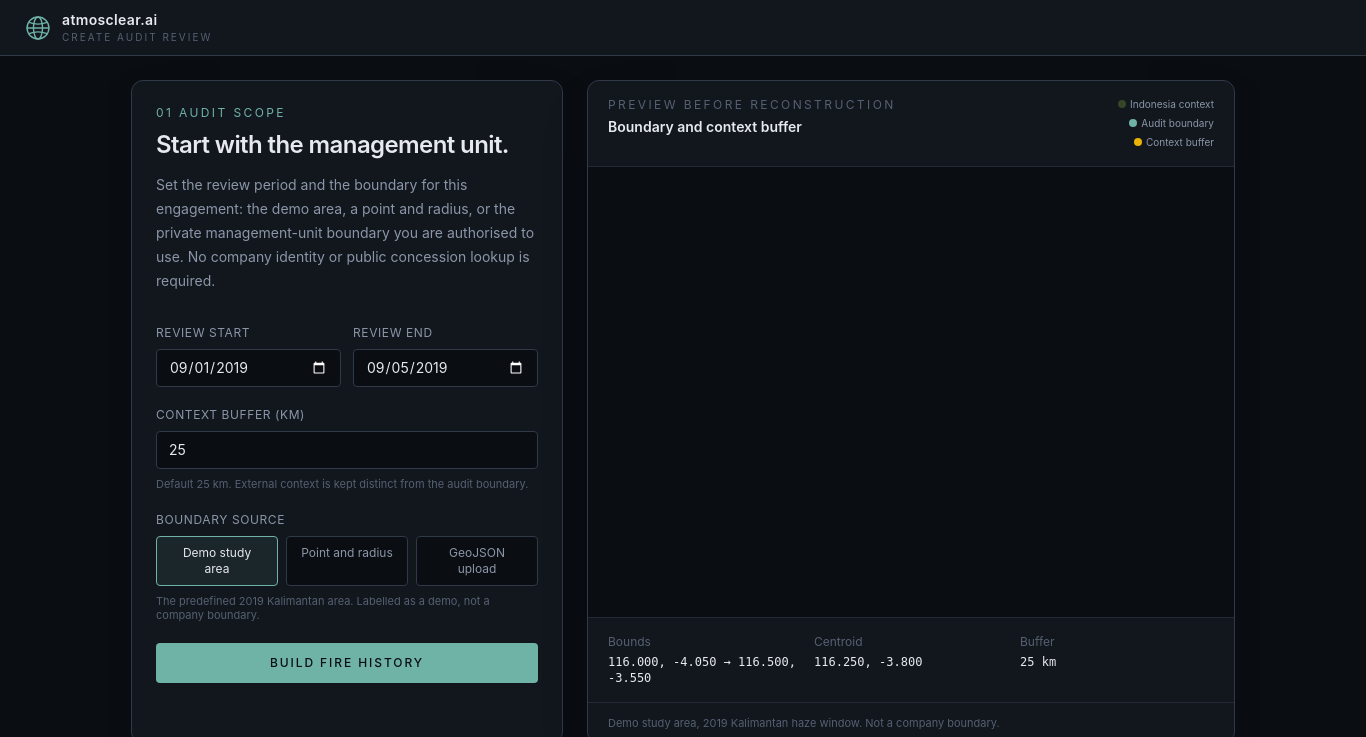
Scenario: the upload path refuses to build without a file instead of substituting a default area
Click the radio button labelled "GeoJSON upload": click(477, 561) top-left (416, 536), bottom-right (538, 586)
(page scrolled)
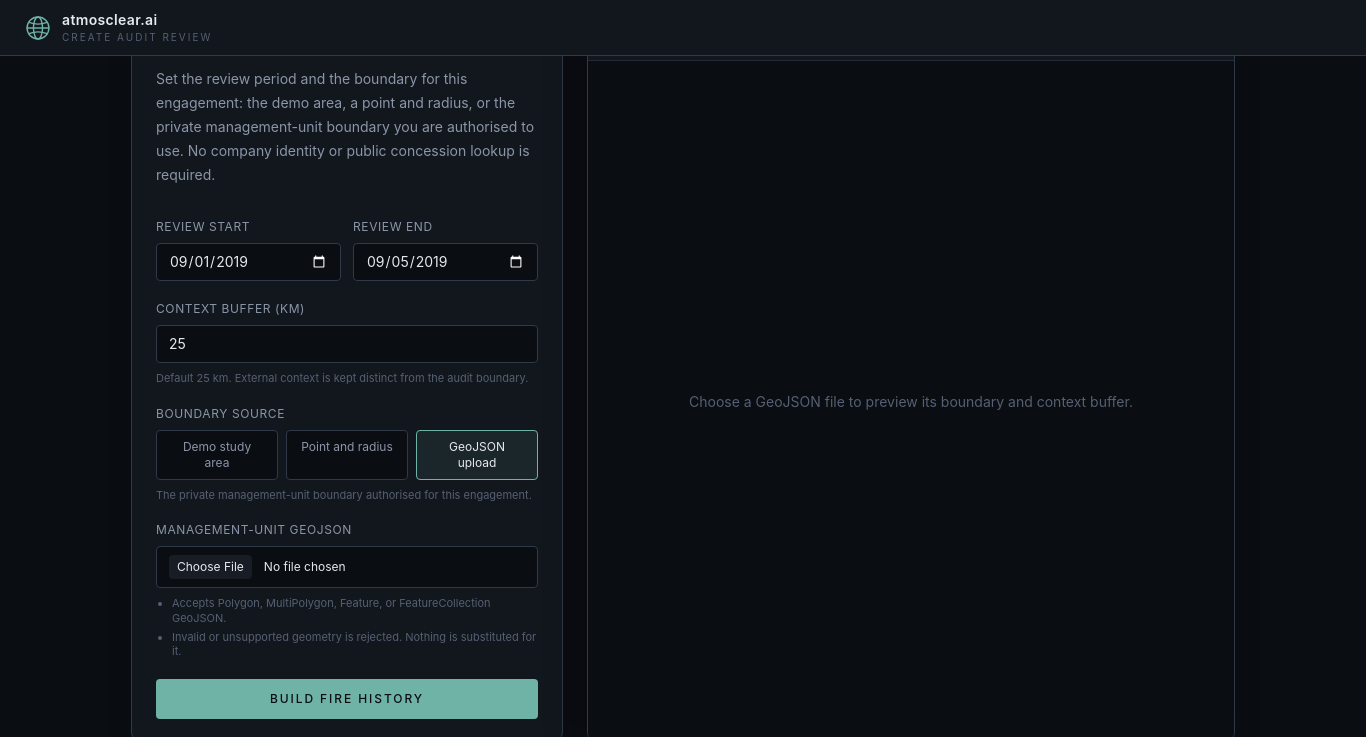
Expected: the text "Choose a GeoJSON file to preview its boundary and context buffer." is shown, top-left (689, 393), bottom-right (1133, 410)
Click the button "BUILD FIRE HISTORY": click(347, 699) top-left (156, 679), bottom-right (538, 719)
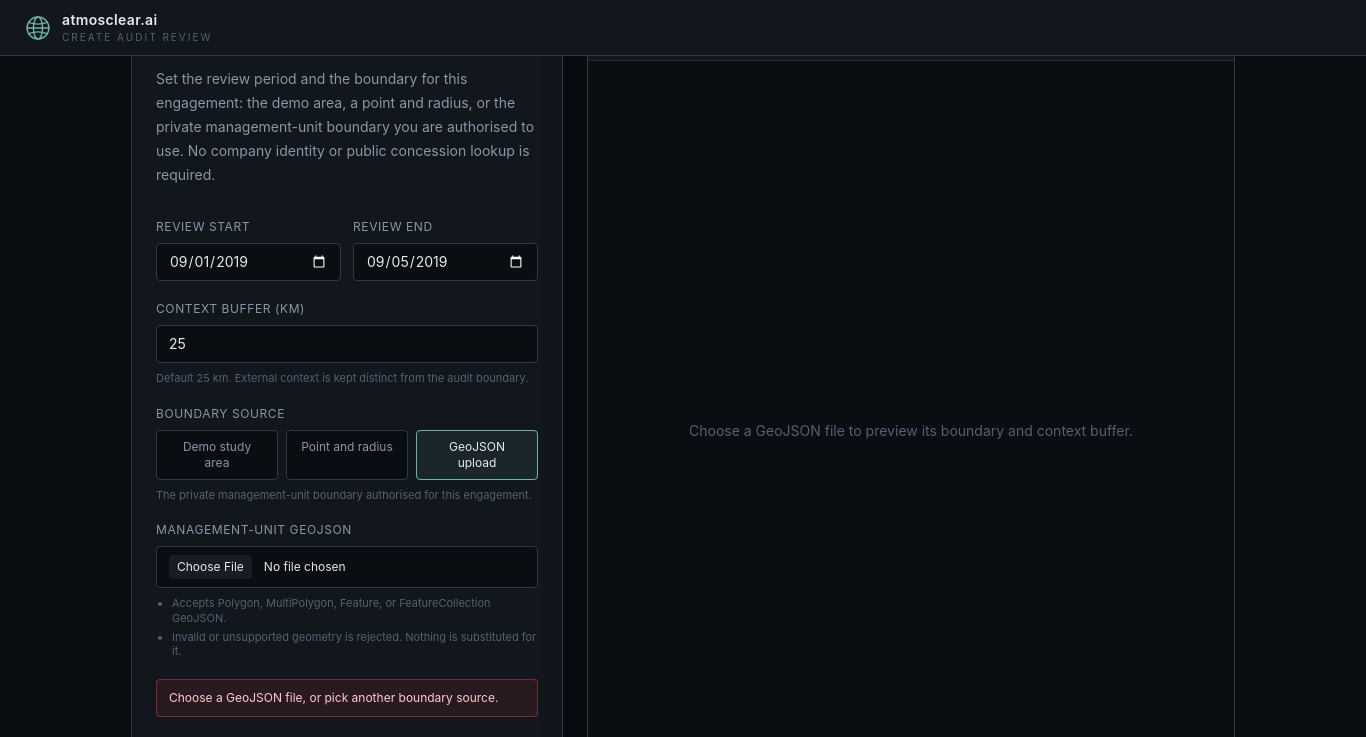
Expected: the message shows "Choose a GeoJSON file", top-left (169, 690), bottom-right (498, 705)
